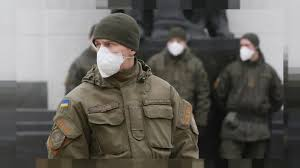masked: (87, 16, 139, 77), (162, 25, 187, 59), (238, 31, 261, 67)
